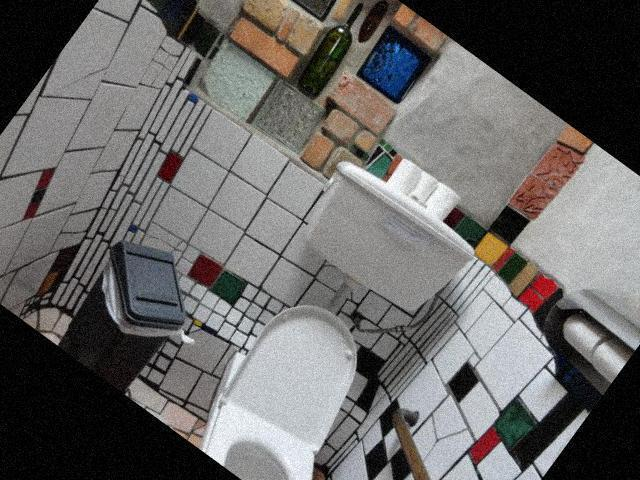Bote de Basura: (45, 226, 209, 396)
Sanitario: (181, 280, 419, 480)
